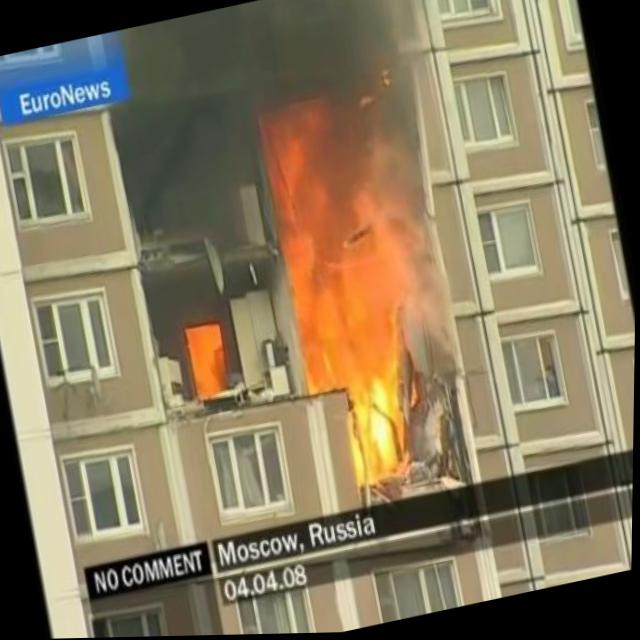fire: (248, 46, 472, 486), (188, 321, 237, 404)
